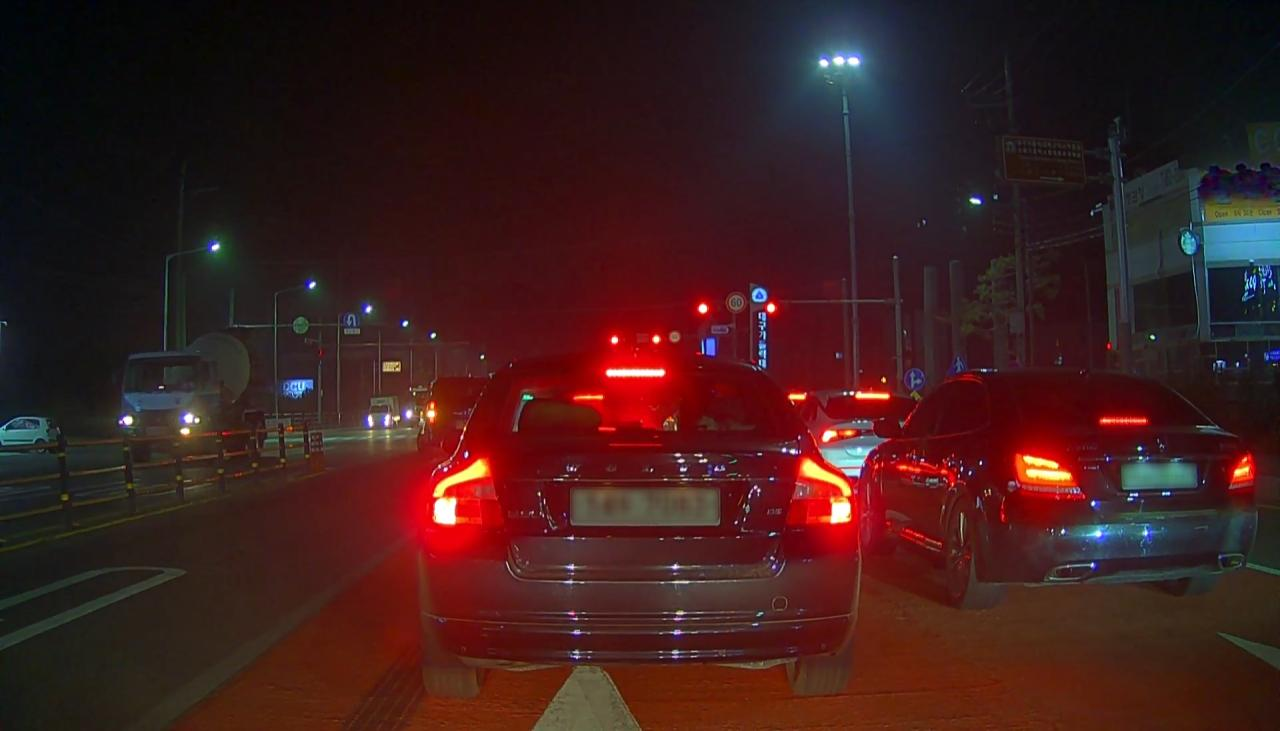Red Light: (651, 332, 662, 344), (698, 303, 708, 315), (766, 303, 777, 313), (610, 335, 620, 345)
